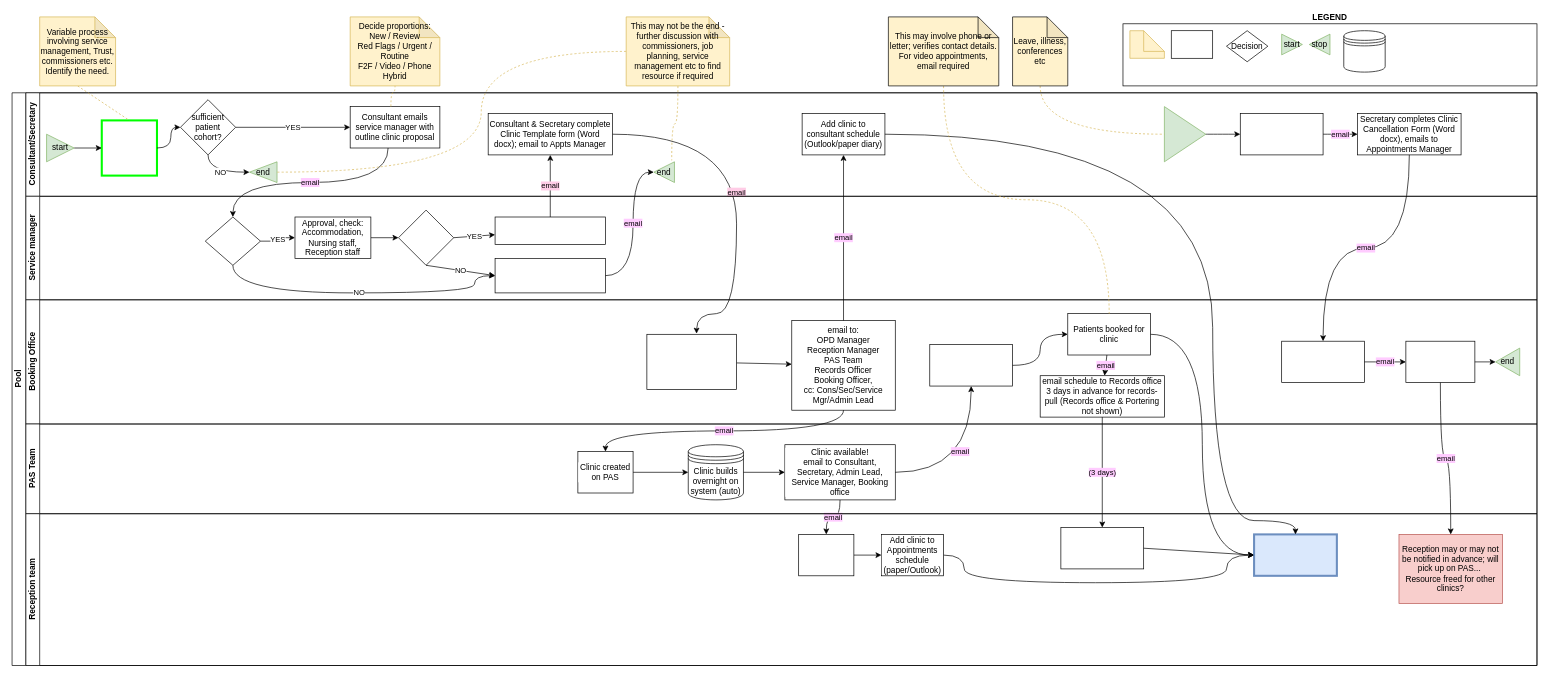
Some shapes in this 1549 by 678 pixel diagram are drawn without their labels. The centre of each missing label's shape, as x and y in pixels:
"Action" belongs at (1192,44).
"Appointments Manager checks form; emails Booking Officer" belongs at (1322,362).
"Appointments Manager: confirm Template details, suggest clinic code" belongs at (691,362).
"Booking office initiate Partial Booking process" belongs at (971,365).
"Booking Officer cancels clinic on PAS" belongs at (1440,362).
"cancel/ reduce clinic" belongs at (1185,134).
"Clinic approved; email consultant and secretary" belongs at (549,230).
"Clinic takes place on assigned date" belongs at (1295,554).
"Clinic unable to be set up. Email consultant and secretary" belongs at (549,275).
"Clinical Team identify need for clinic" belongs at (129,147).
"Consultant emails secretary with clinic variation instructions" belongs at (1281,134).
"Funding available for clinic?" belongs at (232,240).
"IT system" belongs at (1364,51).
"note" belongs at (1146,44).
"Records received in clinic; clinic ready to proceed" belongs at (1102,548).
"resources available?" belongs at (426,237).
"Verifies resources present" belongs at (826,555).
